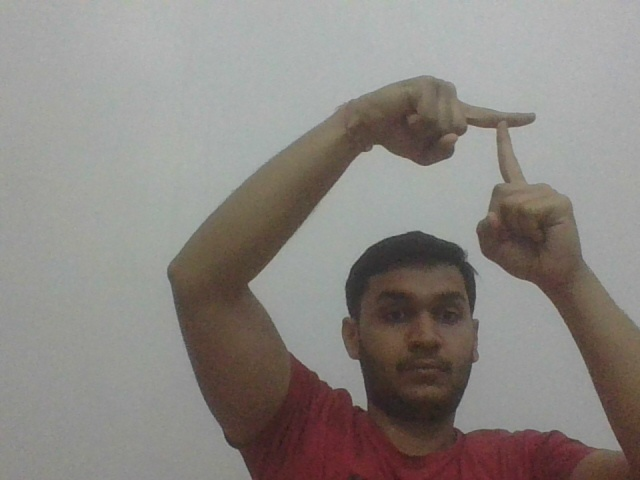T: (468, 98, 547, 182)
